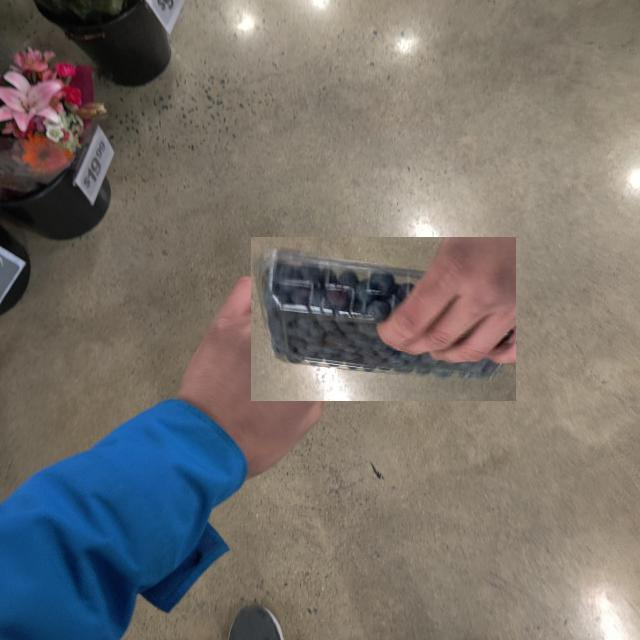Blueberries: (250, 237, 516, 401)
